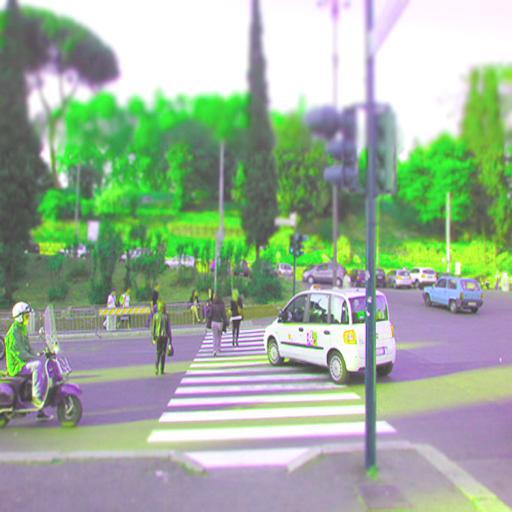crosswalk: (150, 390, 372, 423), (182, 356, 326, 376)
